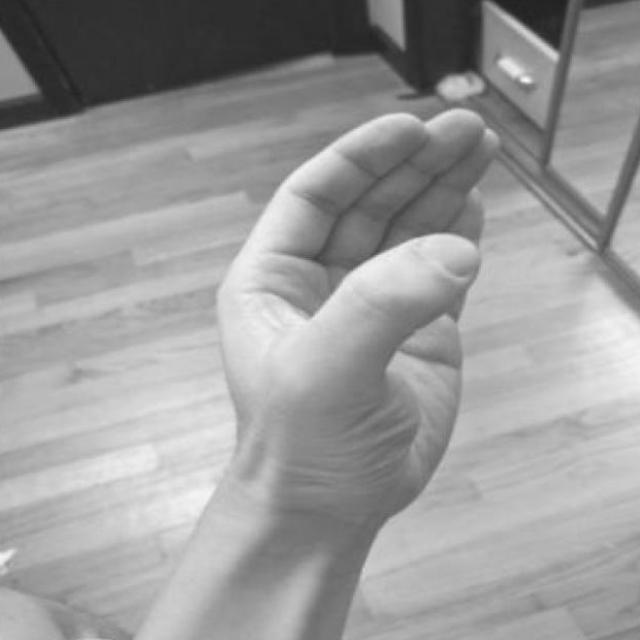C: (169, 90, 609, 534)
